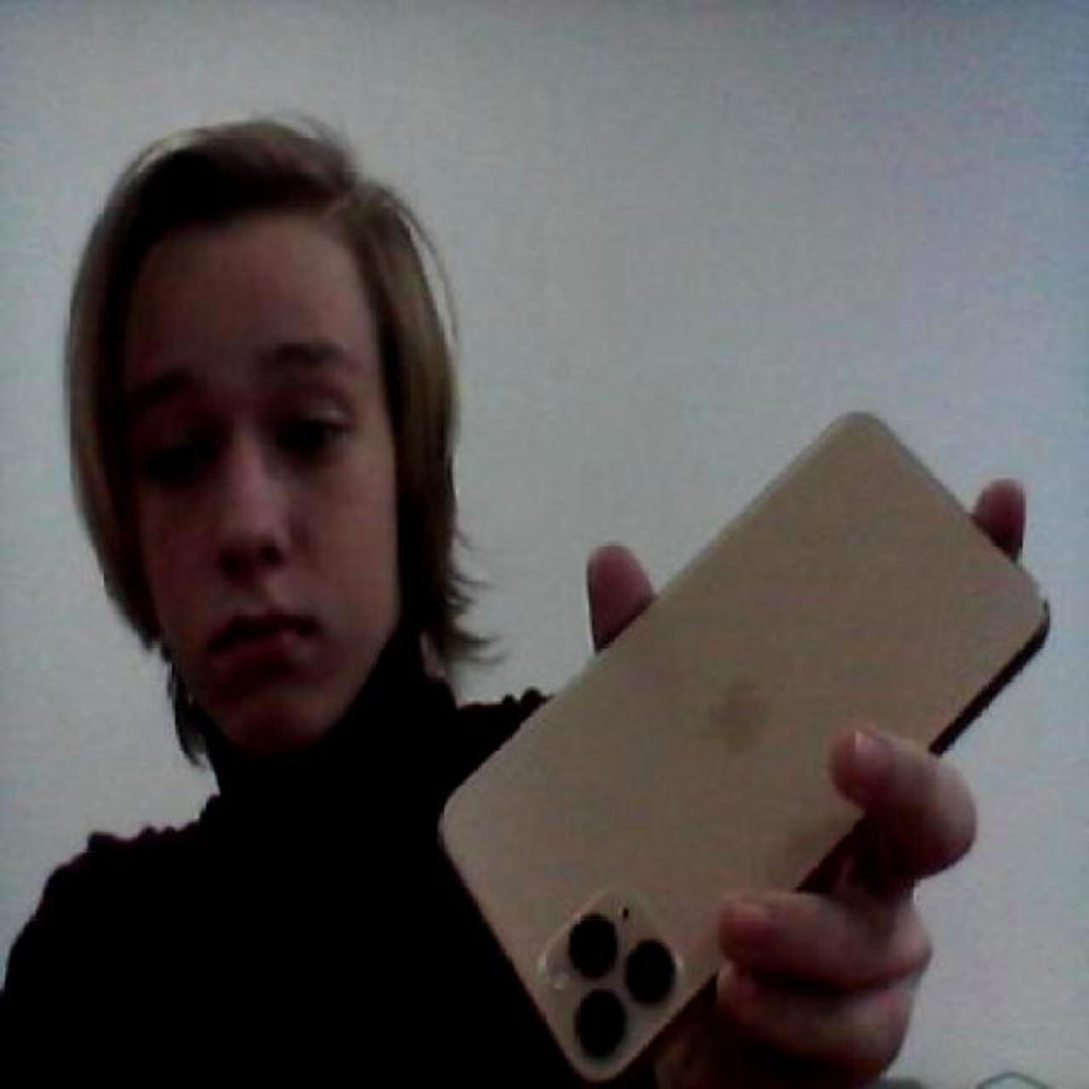phone: (427, 406, 1055, 1086)
